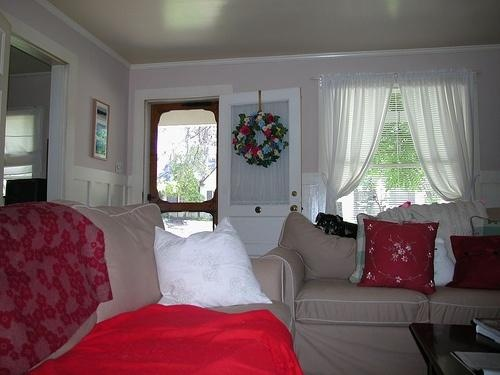sofa: (1, 204, 296, 375), (262, 211, 500, 322)
